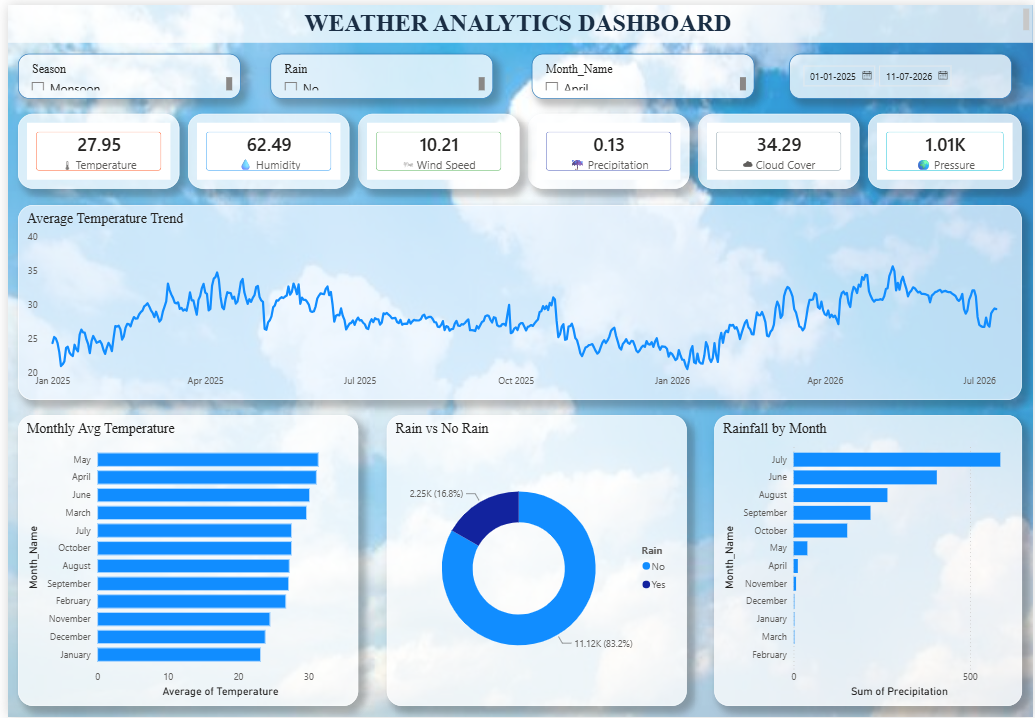

The dashboard page shown, as its layout file describes it:
{"tool":"powerbi","page":{"name":"Page 1","canvas":[1366,950],"ordinal":0},"visuals":[{"type":"textbox","box":[0,0,1366.7,50],"z":0},{"type":"cardVisual","fields":{"Data":["Avg(cleaned_weather_hourly.Temperature)"]},"box":[13.3,145,215,100],"z":1000},{"type":"cardVisual","fields":{"Data":["Avg(cleaned_weather_hourly.Cloud_Cover)"]},"box":[920,145,215,100],"z":2000},{"type":"cardVisual","fields":{"Data":["Avg(cleaned_weather_hourly.Precipitation)"]},"box":[693.3,145,215,100],"z":3000},{"type":"cardVisual","fields":{"Data":["Avg(cleaned_weather_hourly.Wind_Speed)"]},"box":[466.7,145,215,100],"z":4000},{"type":"cardVisual","fields":{"Data":["Avg(cleaned_weather_hourly.Humidity)"]},"box":[240,145,215,100],"z":5000},{"type":"cardVisual","fields":{"Data":["Avg(cleaned_weather_hourly.Surface_Pressure)"]},"box":[1146.7,145,205,100],"z":6000},{"type":"lineChart","title":"Average Temperature Trend","fields":{"Y":["Avg(cleaned_weather_hourly.Temperature)"],"Category":["cleaned_weather_hourly.Date.Variation.Date Hierarchy.Year","cleaned_weather_hourly.Date.Variation.Date Hierarchy.Quarter","cleaned_weather_hourly.Date.Variation.Date Hierarchy.Month","cleaned_weather_hourly.Date.Variation.Date Hierarchy.Day"]},"box":[13.3,266.7,1338.3,260],"z":7000},{"type":"slicer","fields":{"Values":["cleaned_weather_hourly.Season"]},"box":[13.3,65,296.7,60],"z":8000},{"type":"slicer","fields":{"Values":["cleaned_weather_hourly.Rain"]},"box":[350,65,296.7,60],"z":9000},{"type":"slicer","fields":{"Values":["cleaned_weather_hourly.Month_Name"]},"box":[698.3,65,296.7,60],"z":10000},{"type":"slicer","fields":{"Values":["cleaned_weather_hourly.DateTime"]},"box":[1041.7,65,296.7,60],"z":11000},{"type":"clusteredBarChart","title":"Monthly Avg Temperature ","fields":{"Y":["Avg(cleaned_weather_hourly.Temperature)"],"Category":["cleaned_weather_hourly.Month_Name"]},"box":[13.3,546.7,453.3,388.3],"z":12000},{"type":"donutChart","title":"Rain vs No Rain","fields":{"Category":["cleaned_weather_hourly.Rain"],"Y":["CountNonNull(cleaned_weather_hourly.Rain)"]},"box":[504.2,546.7,400,388.3],"z":13000},{"type":"clusteredBarChart","title":"Rainfall by Month","fields":{"Category":["cleaned_weather_hourly.Month_Name"],"Y":["Sum(cleaned_weather_hourly.Precipitation)"]},"box":[941.7,546.7,410,388.3],"z":14000}]}

Visuals, with their boxes in screenshot pixels (x1, y1, x2, y2), scaled from the page's 1366x950 canvas onto the 1035x718 screenshot:
textbox: rect(0, 0, 1034, 38)
cardVisual - Avg(cleaned_weather_hourly.Temperature): rect(10, 110, 173, 185)
cardVisual - Avg(cleaned_weather_hourly.Cloud_Cover): rect(697, 110, 860, 185)
cardVisual - Avg(cleaned_weather_hourly.Precipitation): rect(525, 110, 688, 185)
cardVisual - Avg(cleaned_weather_hourly.Wind_Speed): rect(354, 110, 517, 185)
cardVisual - Avg(cleaned_weather_hourly.Humidity): rect(182, 110, 345, 185)
cardVisual - Avg(cleaned_weather_hourly.Surface_Pressure): rect(869, 110, 1024, 185)
"Average Temperature Trend" lineChart: rect(10, 202, 1024, 398)
slicer - cleaned_weather_hourly.Season: rect(10, 49, 235, 94)
slicer - cleaned_weather_hourly.Rain: rect(265, 49, 490, 94)
slicer - cleaned_weather_hourly.Month_Name: rect(529, 49, 754, 94)
slicer - cleaned_weather_hourly.DateTime: rect(789, 49, 1014, 94)
"Monthly Avg Temperature " clusteredBarChart: rect(10, 413, 354, 707)
"Rain vs No Rain" donutChart: rect(382, 413, 685, 707)
"Rainfall by Month" clusteredBarChart: rect(714, 413, 1024, 707)
